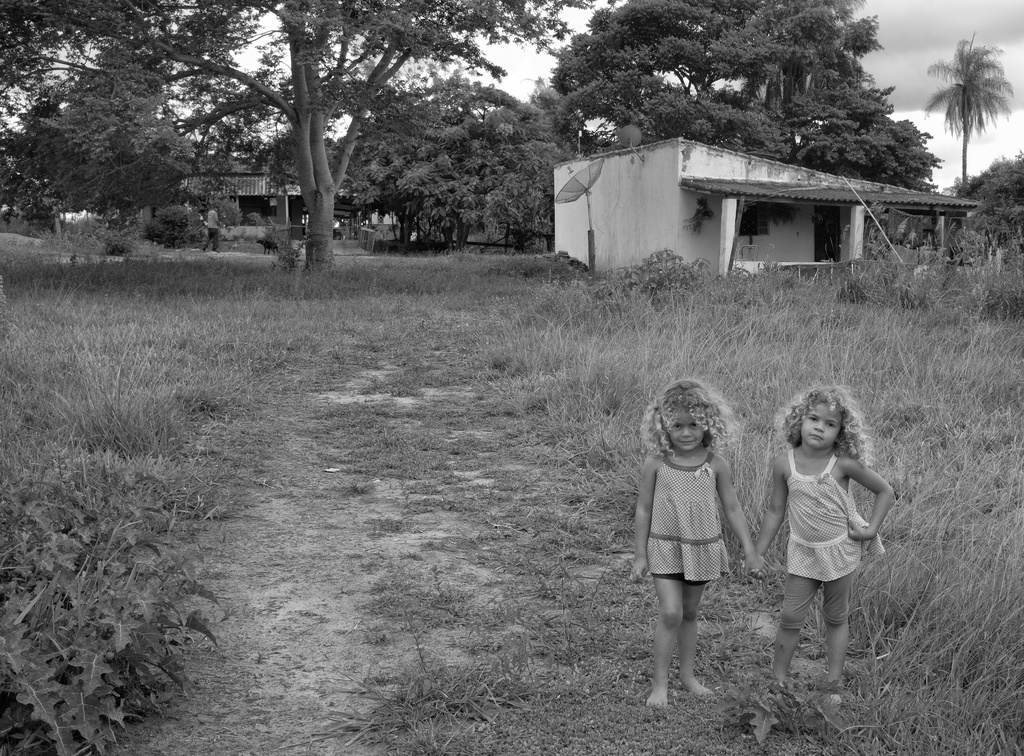Human-face: (799, 407, 845, 447), (666, 407, 703, 452)
